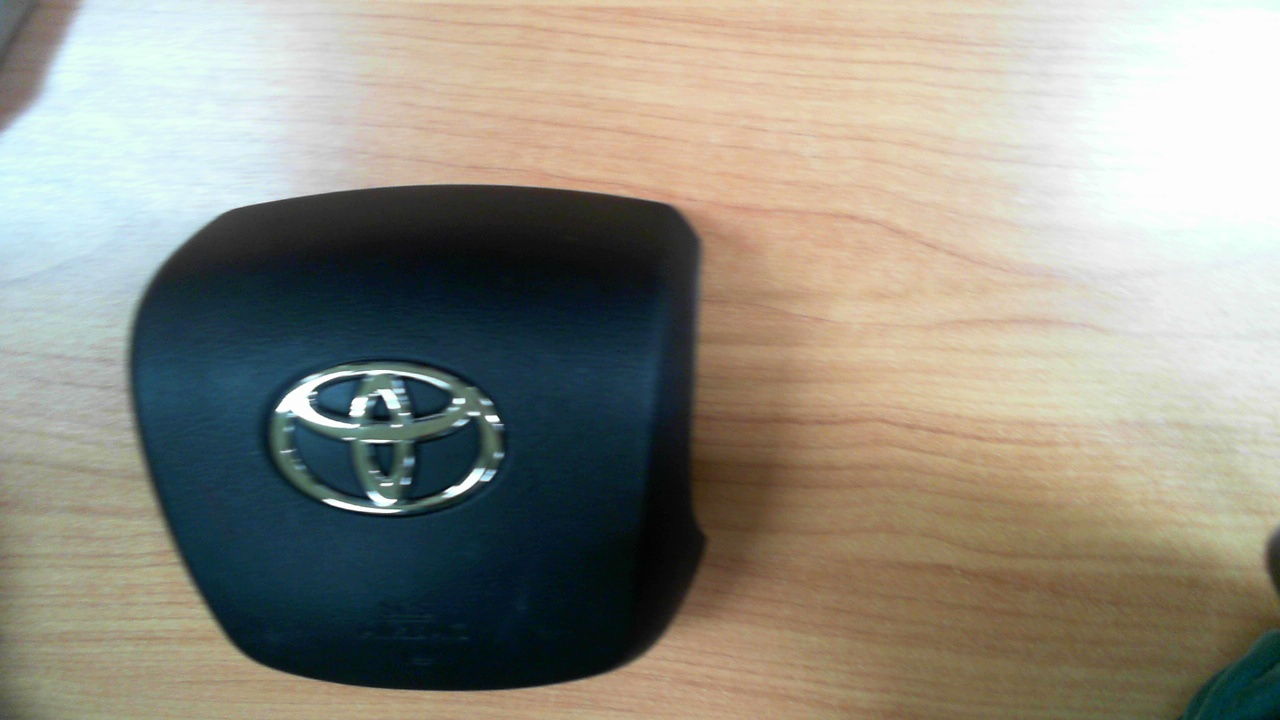Airbag: (125, 183, 707, 693)
Toyota: (269, 361, 506, 518)
